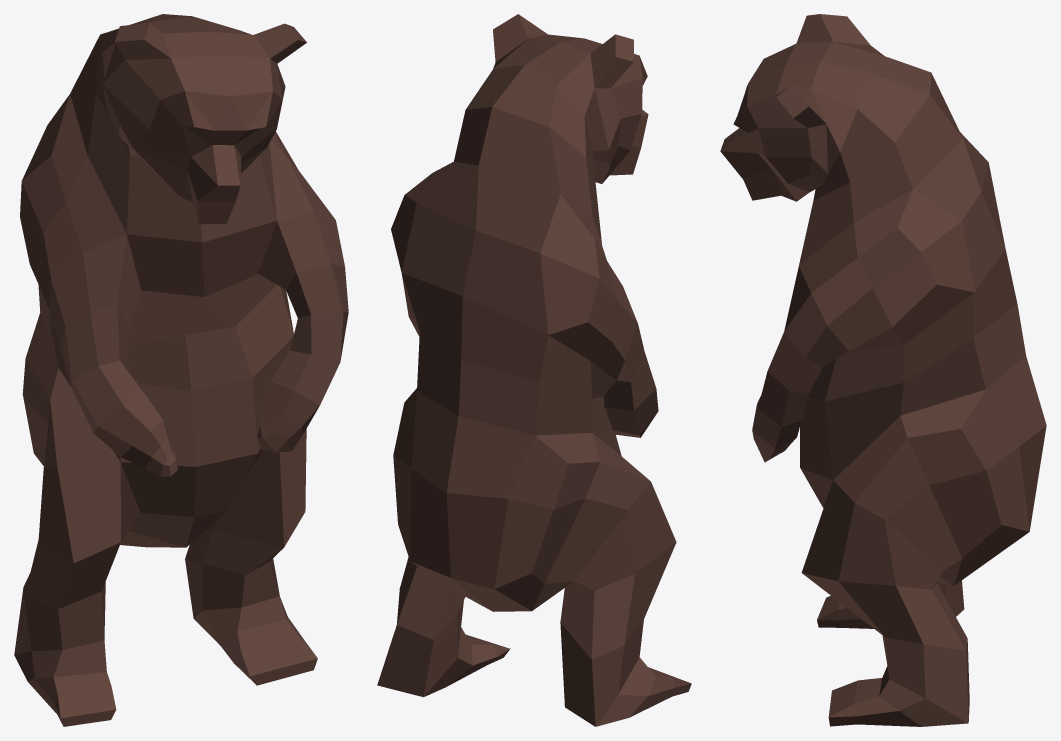
File: animal_009.glb
The picture shows the model from 3 angles, left to right: view 1: azimuth 30°, elevation 25°; view 2: azimuth 150°, elevation 25°; view 3: azimuth 270°, elevation 25°; orthographic projection. The views are drawn at different scales.
Parts seen in each view (by area): view 1: animal_009; view 2: animal_009; view 3: animal_009.
Boxes of the visible parts, x1=… form: animal_009: x1=14, y1=14, x2=348, y2=726; animal_009: x1=377, y1=14, x2=691, y2=726; animal_009: x1=720, y1=14, x2=1046, y2=726.
Size of the model in its own units: 1.91 by 4.52 by 2.09.
Materials: 1 (1 with a texture image).
